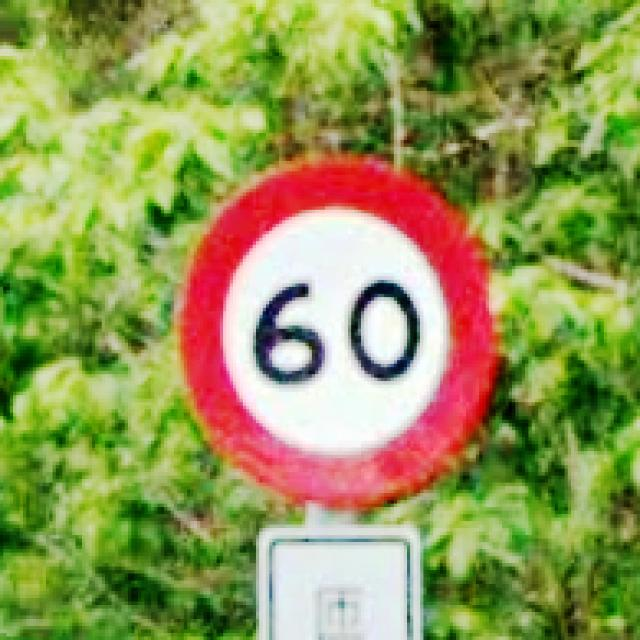max60: (171, 150, 499, 507)
